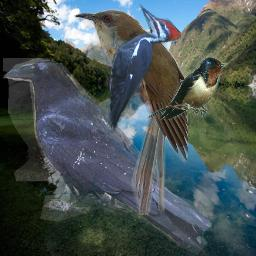Crow: (3, 58, 212, 255)
Cuckoo: (74, 8, 188, 215)
Swallow: (147, 57, 227, 120)
Woodpecker: (105, 2, 181, 135)
